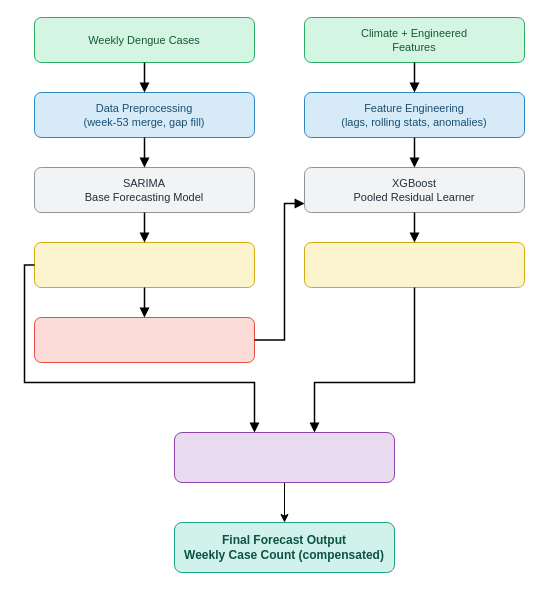
Some shapes in this 543 by 590 pixel diagram are drawn without their labels. Here are the shapes that lost their labels. From the top down, the box of each, then its label:
(34, 242, 254, 288): Base Prediction Y-hat SARIMA
(304, 242, 524, 288): Residual Correction Delta-hat
(34, 316, 254, 362): Residuals Actual - Y-hat SARIMA
(174, 432, 394, 482): Combine Outputs Y-hat SARIMA + Delta-hat
